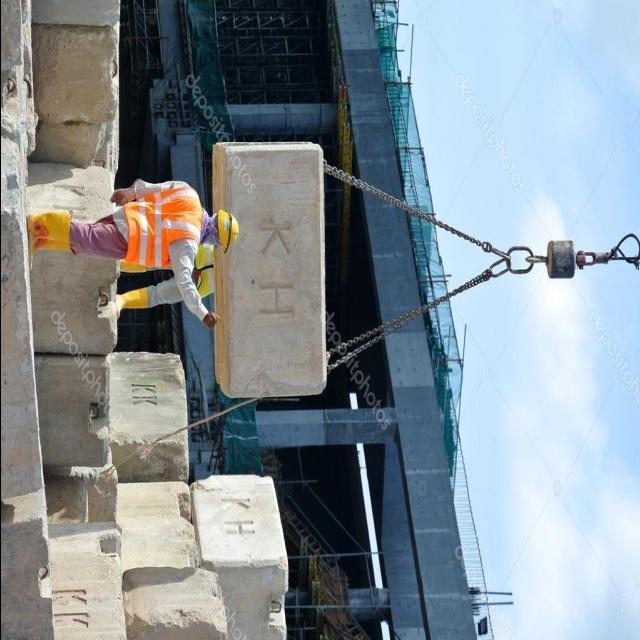helmet: (214, 196, 237, 254)
jacket: (118, 173, 202, 281)
